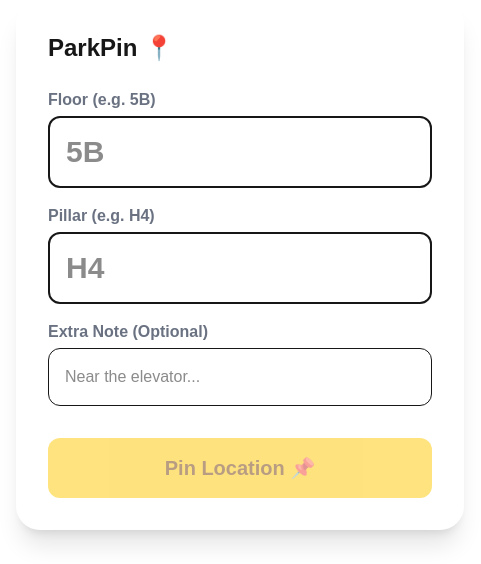
Test: Pinner Component › should enable pin button when floor is filled and save parking on click
Type "3A" into the field with placeholder "5B" at {"x": 240, "y": 152}, box [48,116,432,188]
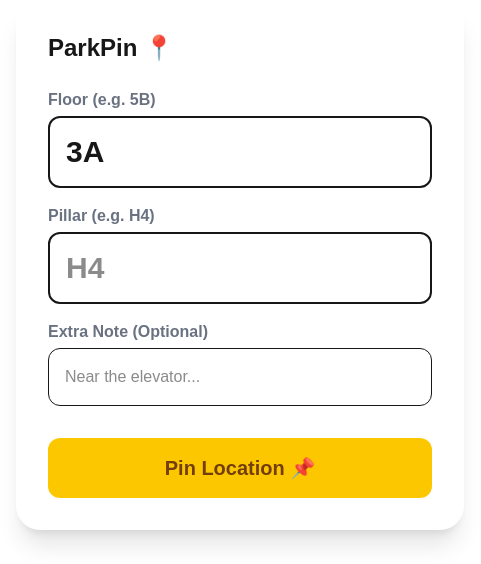
Type "P12" into the field with placeholder "H4" at {"x": 240, "y": 268}, box [48,232,432,304]
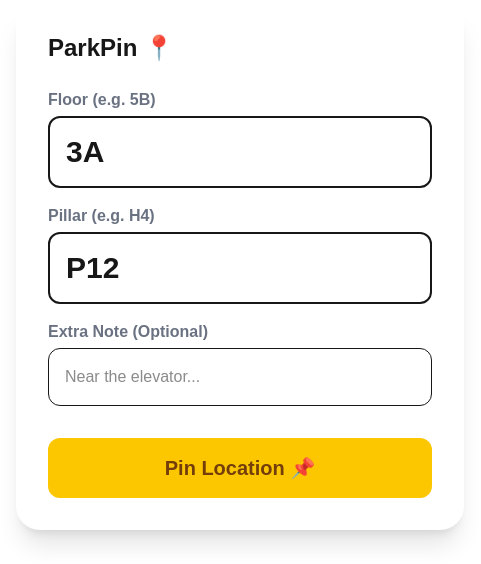
Type "Beside Pillar" into the field with placeholder "Near the elevator..." at {"x": 240, "y": 377}, box [48,348,432,406]
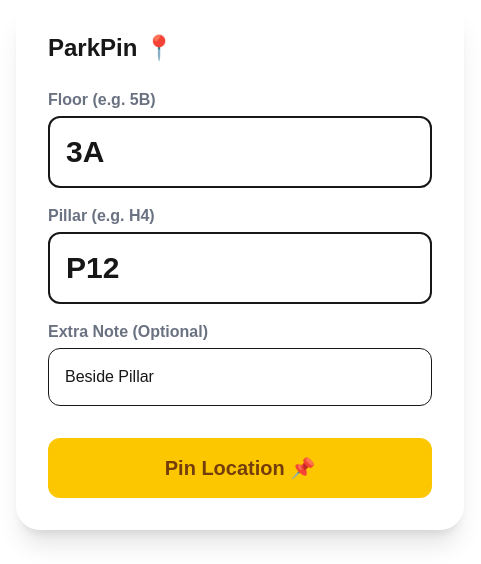
Result: the button "Pin Location 📌" is enabled
Click the button "Pin Location 📌" at {"x": 240, "y": 468}, box [48,438,432,498]
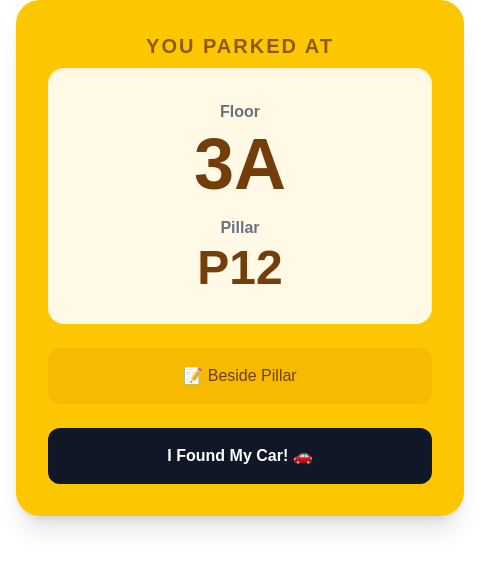
Result: the heading "P12" is shown at [197,241,283,294]
